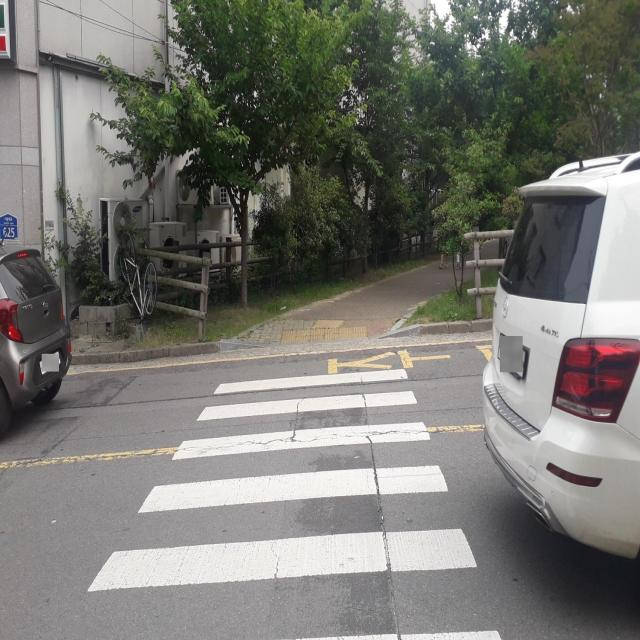횡단보도: (86, 366, 501, 640)
